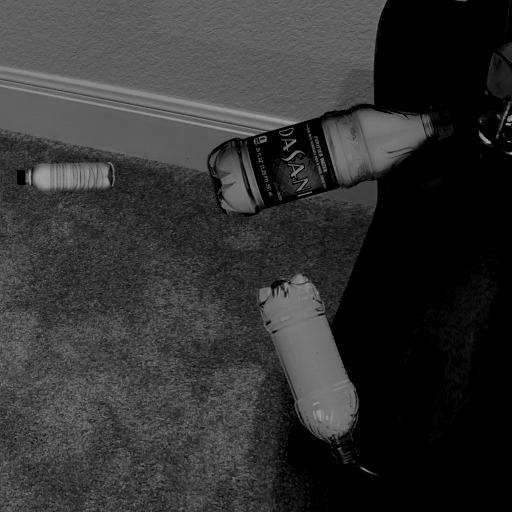bottle: (206, 92, 457, 220), (246, 266, 379, 470), (12, 142, 122, 202)
